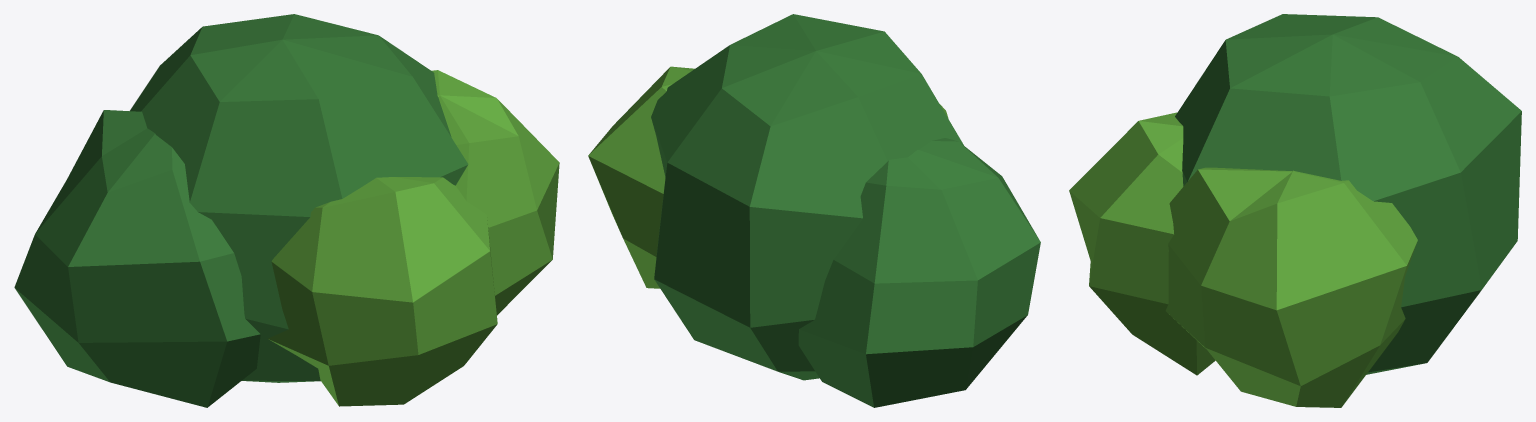
The model's file is bush.obj.
3 views of the same model, side by side, from view 1: azimuth 30°, elevation 25°; view 2: azimuth 150°, elevation 25°; view 3: azimuth 270°, elevation 25° (orthographic). The views are drawn at different scales.
Parts seen in each view (by area): view 1: bush; view 2: bush; view 3: bush.
Boxes of the visible parts, bbox=[...] form: bush: bbox=[14, 14, 559, 407]; bush: bbox=[588, 14, 1040, 407]; bush: bbox=[1069, 14, 1521, 407].
Bounding box in the file's own units: 1.19 × 0.8371 × 1.01.
